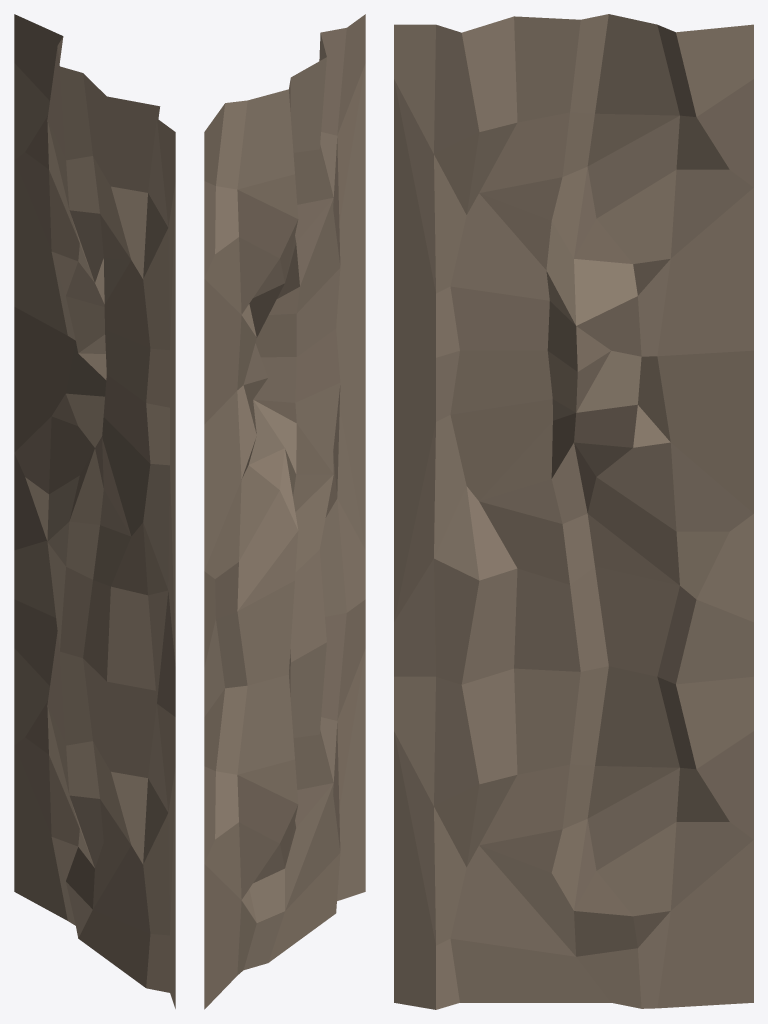
File: ER_Terrain_3x1_Dirt_001_B.fbx
The picture shows the model from 3 angles, left to right: view 1: azimuth 30°, elevation 25°; view 2: azimuth 150°, elevation 25°; view 3: azimuth 270°, elevation 25°; orthographic projection. The views are drawn at different scales.
Visible parts, largest first — view 1: ER_Terrain_3x1_Dirt_001_B; view 2: ER_Terrain_3x1_Dirt_001_B; view 3: ER_Terrain_3x1_Dirt_001_B.
Boxes of the visible parts, x1=… form: ER_Terrain_3x1_Dirt_001_B: x1=14, y1=14, x2=175, y2=1008; ER_Terrain_3x1_Dirt_001_B: x1=204, y1=14, x2=365, y2=1009; ER_Terrain_3x1_Dirt_001_B: x1=394, y1=14, x2=753, y2=1009.
Bounding box in the file's own units: 0.2105 × 3 × 1.
